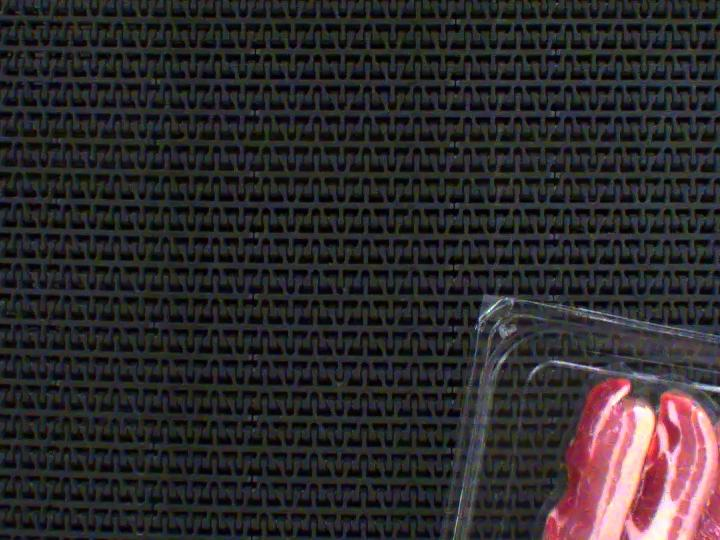unsealed: (548, 337, 720, 484)
